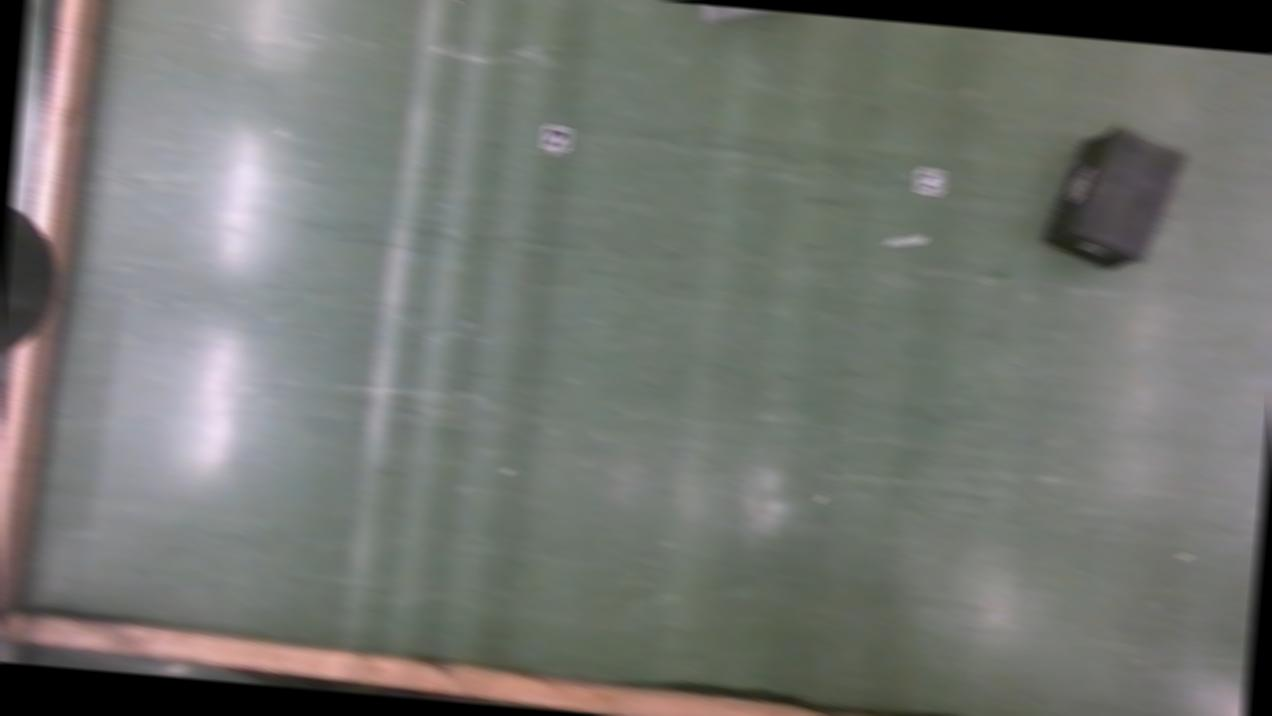rako: (1039, 122, 1186, 278)
